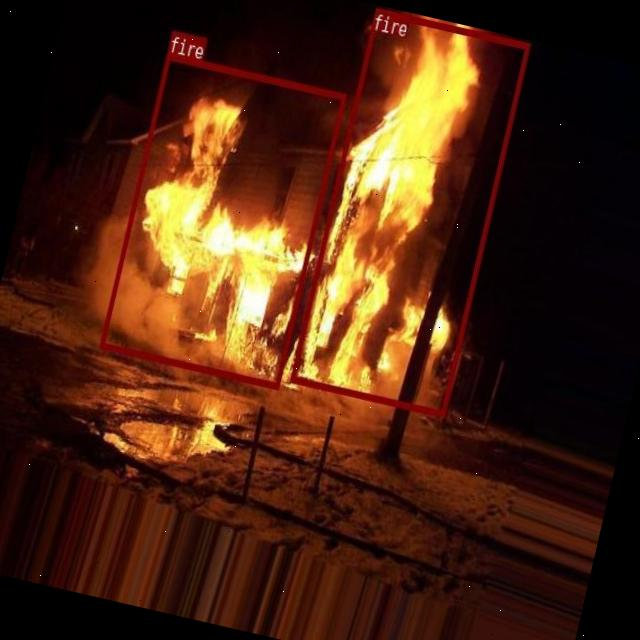fire: (288, 8, 530, 416), (98, 51, 346, 388)
